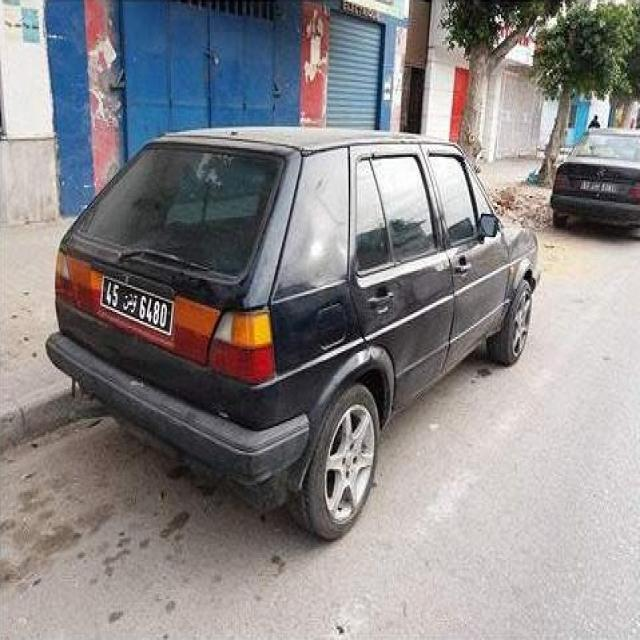licence plate: (103, 278, 171, 333)
